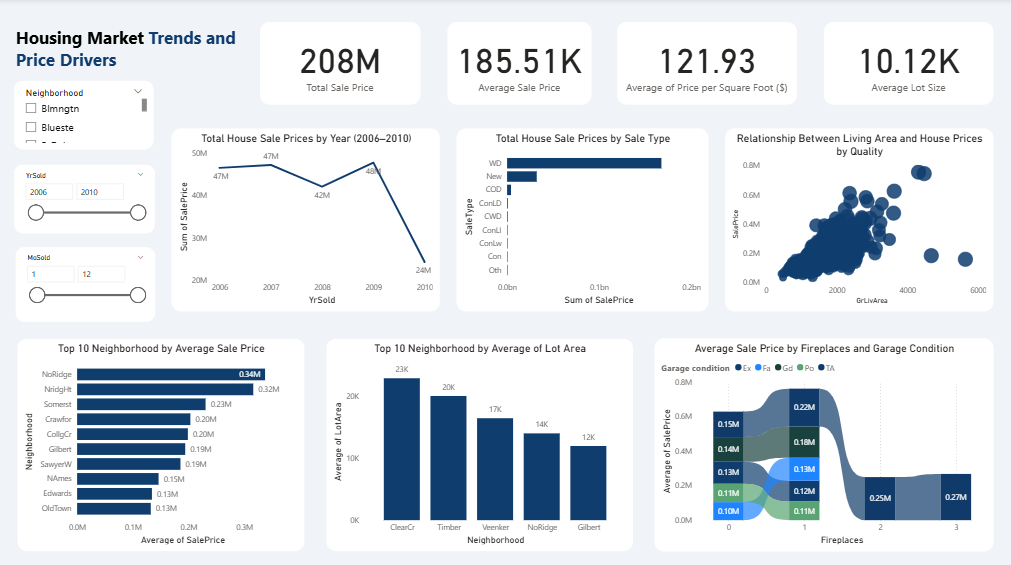

What the dashboard file says about the page in this screenshot:
{"tool":"powerbi","page":{"name":"Real Estate Insights by Neighborhood and Property Type","canvas":[1280,720],"ordinal":1},"visuals":[{"type":"lineStackedColumnComboChart","title":"Total Sale Price and Number of Sales by Neighborhood","fields":{"Category":["train.Neighborhood"],"Y":["Sum(train.SalePrice)"],"Y2":["CountNonNull(train.Id)"]},"box":[13.2,359.1,612.3,343.9],"z":0},{"type":"barChart","title":"Top 10 Neighborhood by Average Sale Price","fields":{"Category":["train.Neighborhood"],"Y":["Avg(train.SalePrice)"]},"box":[640.6,359.1,621.7,343.9],"z":1000},{"type":"textbox","box":[0,0,1279.4,47.2],"z":2000},{"type":"columnChart","title":"Annual Count of Property Remodels (2006–2010)","fields":{"Category":["train.YrSold"],"Y":["Sum(train.RemodelFlag)"]},"box":[13.2,62.4,538.6,283.5],"z":3000},{"type":"columnChart","title":"Average Sale Price by Type of road access","fields":{"Category":["train.Street"],"Y":["Avg(train.SalePrice)"],"Series":["train.Street"]},"box":[566.9,62.4,326.9,283.5],"z":4000},{"type":"clusteredColumnChart","title":"Top 10 Neighborhood by Average of Lot Area ","fields":{"Y":["Avg(train.LotArea)"],"Category":["train.Neighborhood"]},"box":[912.8,62.4,349.6,283.5],"z":5000}]}

Visuals, with their boxes in screenshot pixels (x1, y1, x2, y2), scaled from the page's 1280x720 canvas onto the 1011x565 screenshot:
"Total Sale Price and Number of Sales by Neighborhood" lineStackedColumnComboChart: [x1=10, y1=282, x2=494, y2=552]
"Top 10 Neighborhood by Average Sale Price" barChart: [x1=506, y1=282, x2=997, y2=552]
textbox: [x1=0, y1=0, x2=1010, y2=37]
"Annual Count of Property Remodels (2006–2010)" columnChart: [x1=10, y1=49, x2=436, y2=271]
"Average Sale Price by Type of road access" columnChart: [x1=448, y1=49, x2=706, y2=271]
"Top 10 Neighborhood by Average of Lot Area " clusteredColumnChart: [x1=721, y1=49, x2=997, y2=271]
